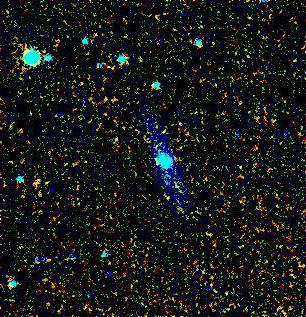star: (143, 148, 173, 178)
